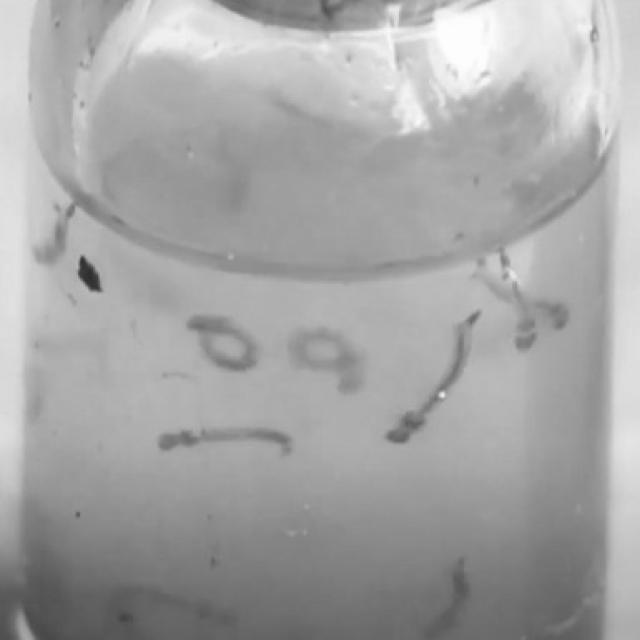larvas: (386, 312, 479, 443), (474, 268, 568, 329), (490, 248, 542, 349), (295, 324, 364, 389), (193, 313, 257, 371), (158, 428, 296, 453), (35, 203, 81, 263), (436, 554, 467, 640)
